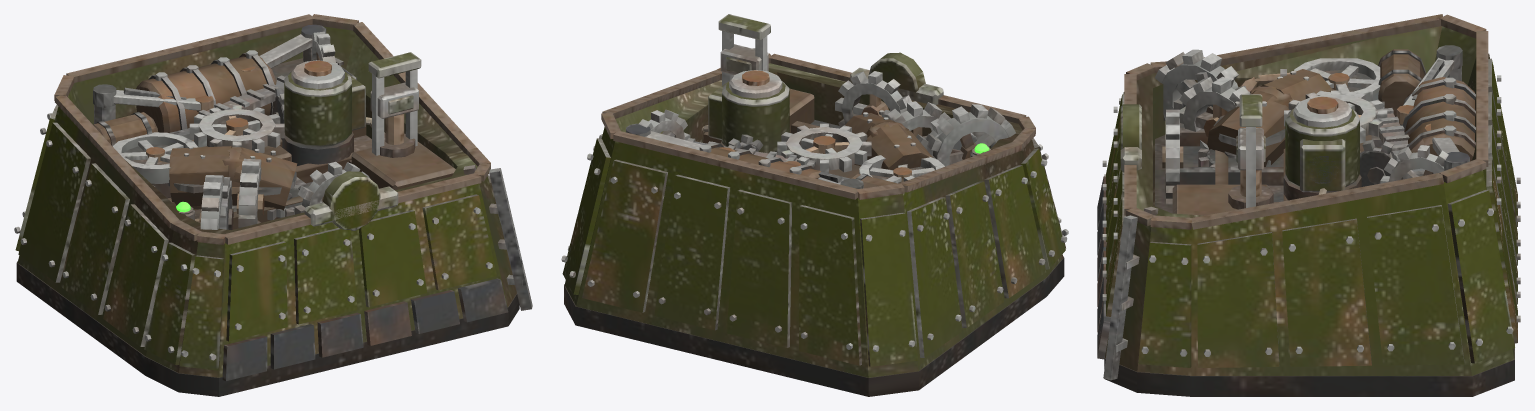
The model's file is assembling-machine-3.glb.
The picture shows the model from 3 angles, left to right: view 1: azimuth 30°, elevation 25°; view 2: azimuth 150°, elevation 25°; view 3: azimuth 270°, elevation 25°; orthographic projection. The views are drawn at different scales.
Visible parts, largest first — view 1: body, anim_am3_press_e, anim_am3_gear_c, anim_am3_stamp_se, anim_am3_arm_nw, anim_am3_gear_swa, anim_am3_gear_swb, anim_am3_gear_sc, anim_am3_arm_ne, anim_am3_fan_w, anim_am3_sprocket_ne; view 2: body, anim_am3_press_e, anim_am3_gear_swa, anim_am3_gear_c, anim_am3_gear_sc, anim_am3_gear_swb, anim_am3_stamp_se, anim_am3_sprocket_ne, anim_am3_arm_ne, anim_am3_fan_w, anim_am3_arm_nw; view 3: body, anim_am3_press_e, anim_am3_gear_swa, anim_am3_gear_swb, anim_am3_sprocket_ne, anim_am3_gear_sc, anim_am3_gear_c, anim_am3_arm_nw, anim_am3_stamp_se, anim_am3_fan_w, anim_am3_arm_ne.
Boxes of the visible parts, bbox=[...] form: body: bbox=[14, 14, 532, 396]; anim_am3_press_e: bbox=[284, 60, 365, 147]; anim_am3_gear_c: bbox=[189, 105, 284, 153]; anim_am3_stamp_se: bbox=[370, 82, 418, 144]; anim_am3_arm_nw: bbox=[93, 84, 213, 112]; anim_am3_gear_swa: bbox=[199, 175, 233, 229]; anim_am3_gear_swb: bbox=[236, 158, 264, 228]; anim_am3_gear_sc: bbox=[294, 161, 370, 214]; anim_am3_arm_ne: bbox=[240, 24, 326, 71]; anim_am3_fan_w: bbox=[122, 140, 183, 164]; anim_am3_sprocket_ne: bbox=[312, 31, 337, 64]; body: bbox=[561, 14, 1068, 396]; anim_am3_press_e: bbox=[708, 70, 789, 153]; anim_am3_gear_swa: bbox=[916, 104, 1015, 166]; anim_am3_gear_c: bbox=[777, 123, 871, 173]; anim_am3_gear_sc: bbox=[835, 71, 911, 127]; anim_am3_gear_swb: bbox=[887, 101, 951, 137]; anim_am3_stamp_se: bbox=[720, 44, 768, 74]; anim_am3_sprocket_ne: bbox=[638, 109, 690, 139]; anim_am3_arm_ne: bbox=[626, 123, 734, 151]; anim_am3_fan_w: bbox=[869, 164, 934, 183]; anim_am3_arm_nw: bbox=[785, 161, 863, 188]; body: bbox=[1097, 14, 1520, 396]; anim_am3_press_e: bbox=[1285, 96, 1359, 192]; anim_am3_gear_swa: bbox=[1155, 49, 1246, 120]; anim_am3_gear_swb: bbox=[1179, 76, 1250, 148]; anim_am3_sprocket_ne: bbox=[1380, 145, 1448, 183]; anim_am3_gear_sc: bbox=[1162, 109, 1183, 204]; anim_am3_gear_c: bbox=[1284, 90, 1387, 143]; anim_am3_arm_nw: bbox=[1396, 45, 1462, 124]; anim_am3_stamp_se: bbox=[1236, 128, 1265, 196]; anim_am3_fan_w: bbox=[1310, 65, 1374, 92]; anim_am3_arm_ne: bbox=[1424, 123, 1469, 170].
Bounding box in the file's own units: 2.82 × 1.69 × 2.6.
2 materials, 2 textured.
